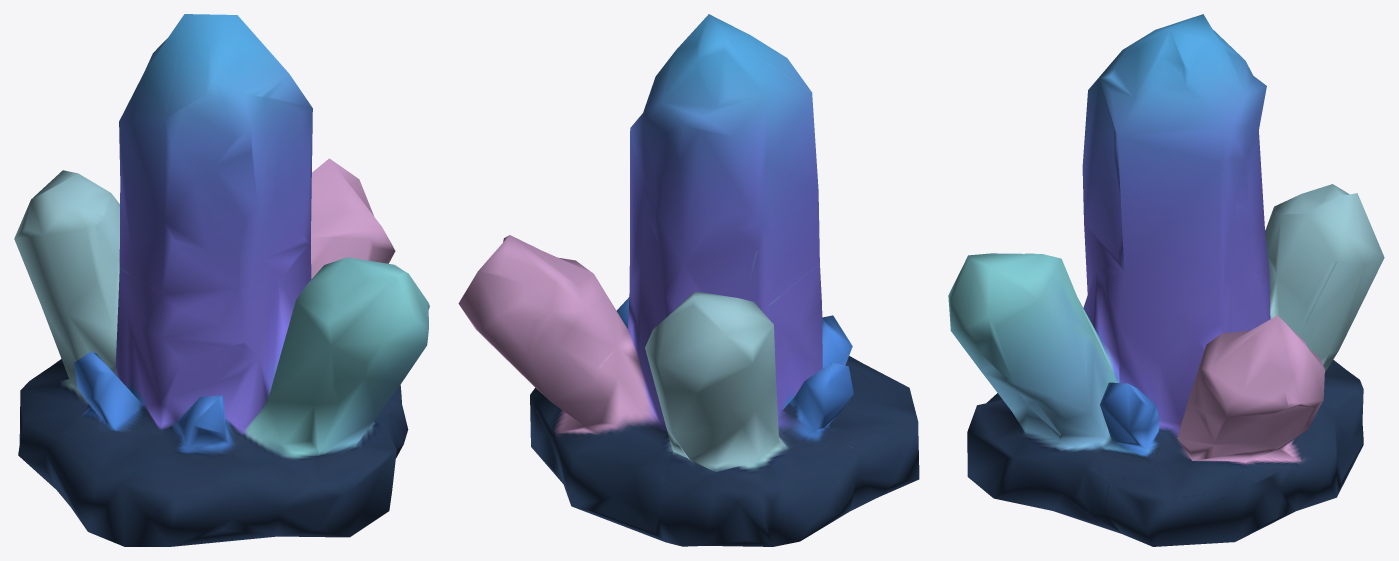
File: textures.glb
3 views of the same model, side by side, from view 1: azimuth 30°, elevation 25°; view 2: azimuth 150°, elevation 25°; view 3: azimuth 270°, elevation 25° (orthographic).
Parts seen in each view (by area): view 1: tripo_node_ebce8d5d-0c67-43be-adb3-823f1476b1f8; view 2: tripo_node_ebce8d5d-0c67-43be-adb3-823f1476b1f8; view 3: tripo_node_ebce8d5d-0c67-43be-adb3-823f1476b1f8.
Boxes of the visible parts, box(x1,y1,x2,y2) form: tripo_node_ebce8d5d-0c67-43be-adb3-823f1476b1f8: box(14, 14, 429, 546); tripo_node_ebce8d5d-0c67-43be-adb3-823f1476b1f8: box(458, 14, 919, 546); tripo_node_ebce8d5d-0c67-43be-adb3-823f1476b1f8: box(948, 14, 1384, 546).
Size of the model in its own units: 0.8423 by 1 by 0.8764.
1 material, 1 textured.
